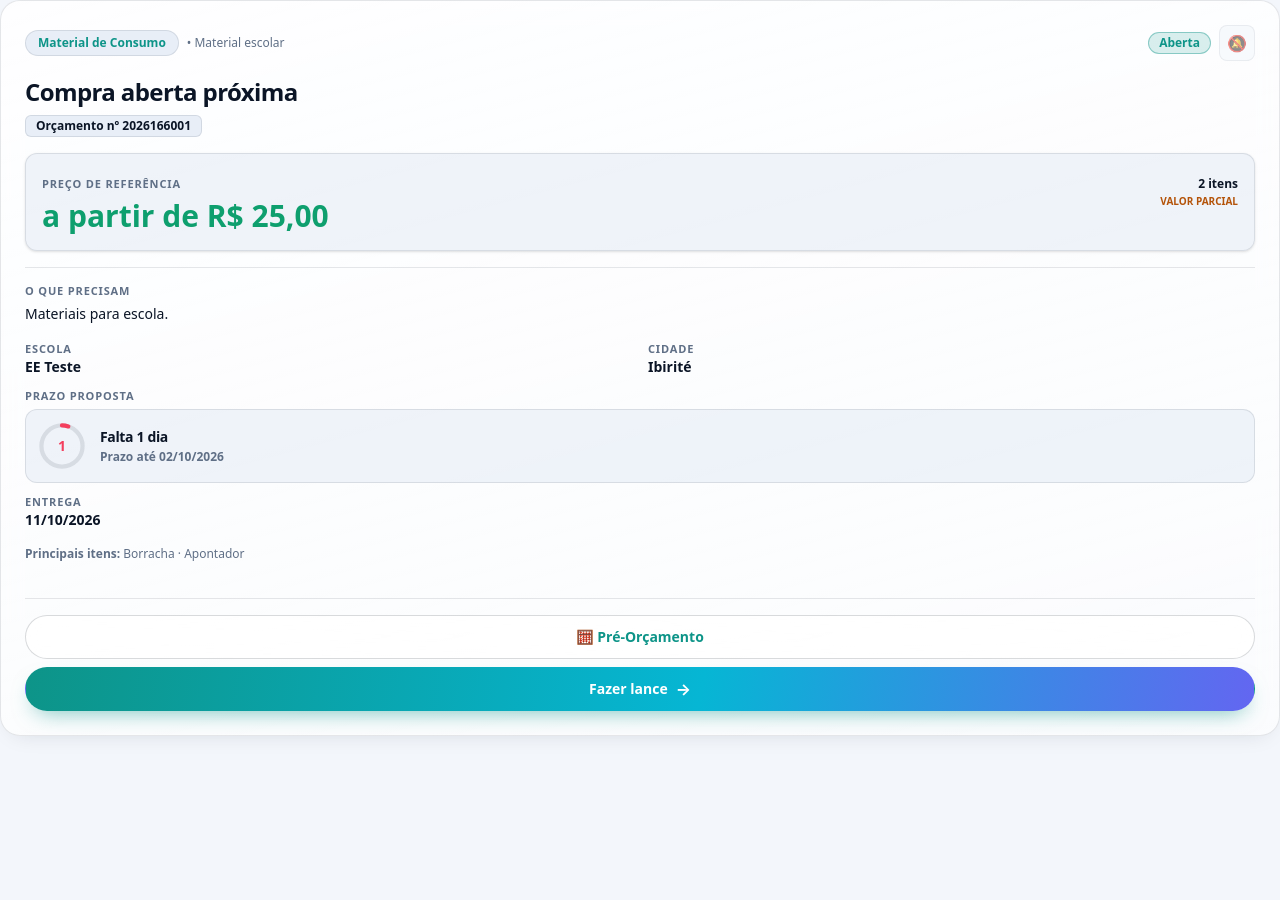
it: OpportunityCard modal › renderiza itens longos em blocos sem tabela e remove preço repetido da descrição exibida
This screenshot has width=1280, height=900.
Step 1. Click the button → (640,368), box [0,0,1279,736]
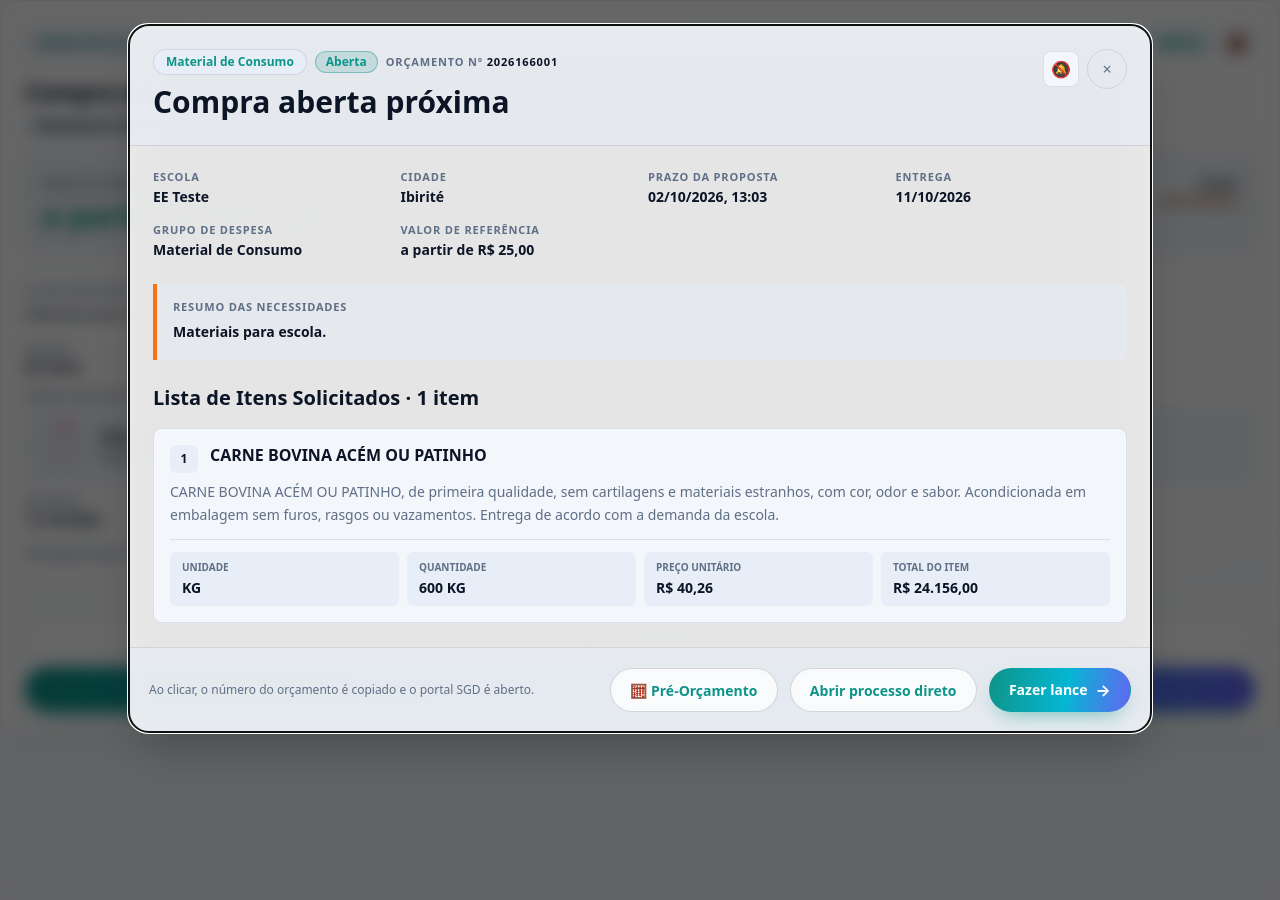
expect the text "sem cartilagens e materiais estranhos" is shown: met, box [170,482,1090,524]
expect the text "Entrega de acordo com a demanda da escola." is shown: met, box [170,482,1090,524]
expect the text "Preço unitário" is shown: met, box [656,560,741,574]
